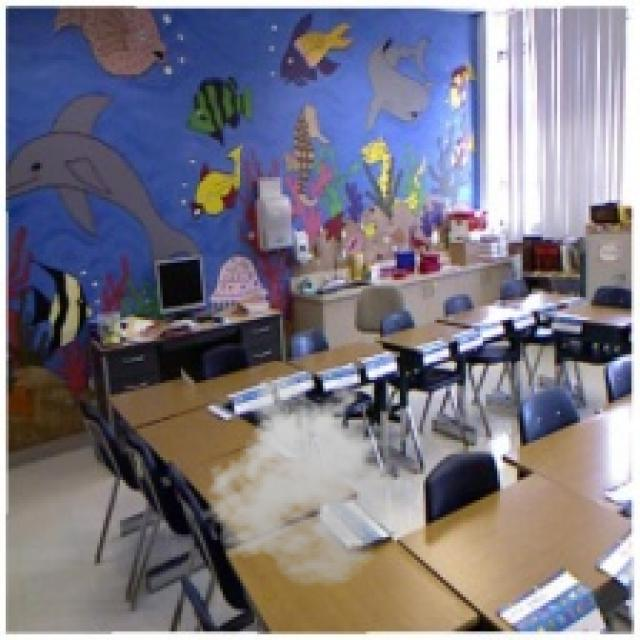smoke: (200, 374, 420, 589)
